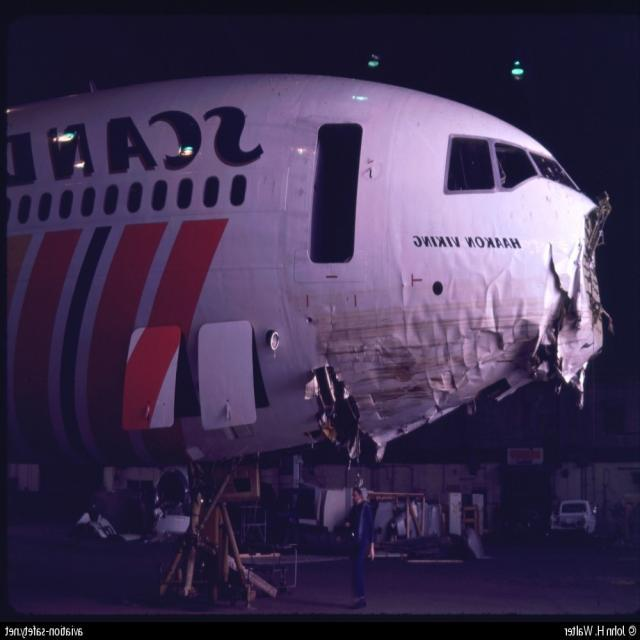crack: (545, 243, 585, 337), (324, 304, 345, 367)
dent: (367, 269, 543, 444)
